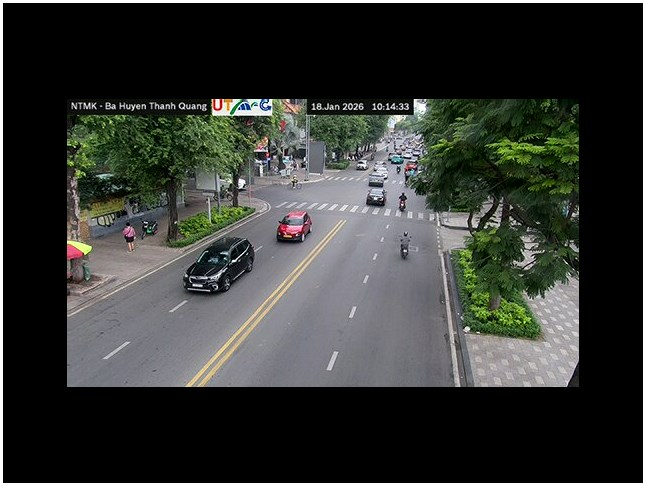car: (183, 236, 255, 293), (276, 210, 312, 243), (366, 176, 386, 205), (366, 188, 386, 206)
